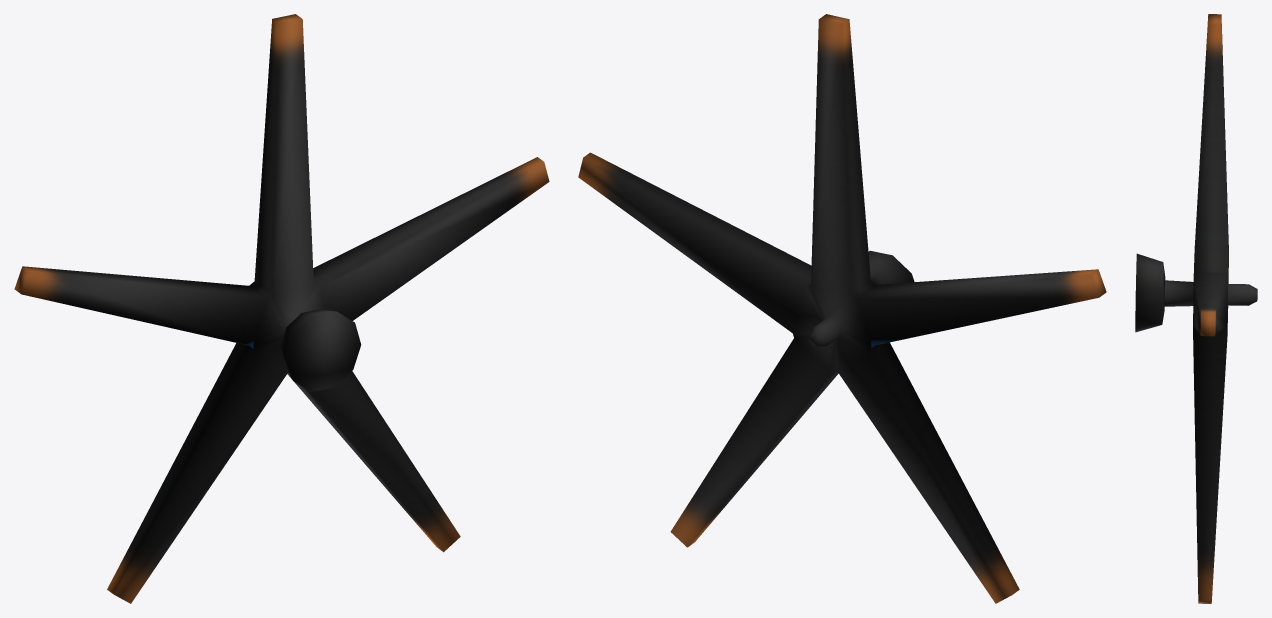
Rendered from elicopter_elice_mica.obj.
3 views of the same model, side by side, from view 1: azimuth 30°, elevation 25°; view 2: azimuth 150°, elevation 25°; view 3: azimuth 270°, elevation 25° (orthographic). The views are drawn at different scales.
Visible parts, largest first — view 1: Cylinder.002; view 2: Cylinder.002; view 3: Cylinder.002.
Boxes of the visible parts, <box> form: Cylinder.002: <box>14,14,549,603</box>; Cylinder.002: <box>578,14,1106,603</box>; Cylinder.002: <box>1135,14,1257,603</box>.
Size of the model in its own units: 0.7844 by 0.8065 by 0.1725.
Materials: 1 (1 with a texture image).
